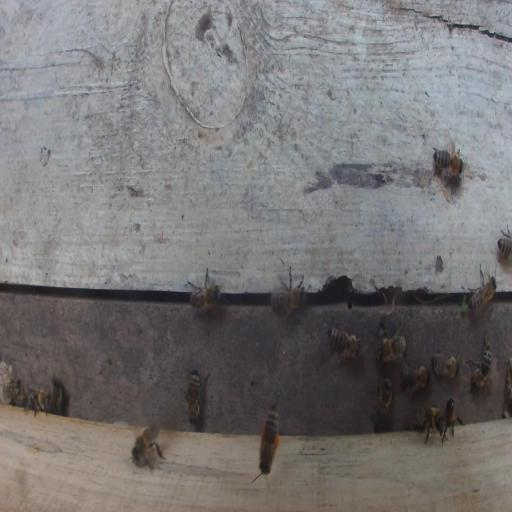bee: (252, 400, 280, 483), (186, 263, 224, 317), (179, 366, 212, 426), (466, 260, 498, 321), (271, 264, 307, 318), (432, 128, 465, 186), (130, 419, 166, 469), (328, 315, 362, 367), (465, 330, 492, 389), (376, 320, 408, 367), (413, 404, 448, 445), (399, 360, 432, 403), (372, 375, 395, 433), (23, 385, 53, 416), (429, 352, 460, 381), (444, 397, 464, 438), (497, 223, 511, 263), (51, 373, 64, 416)
